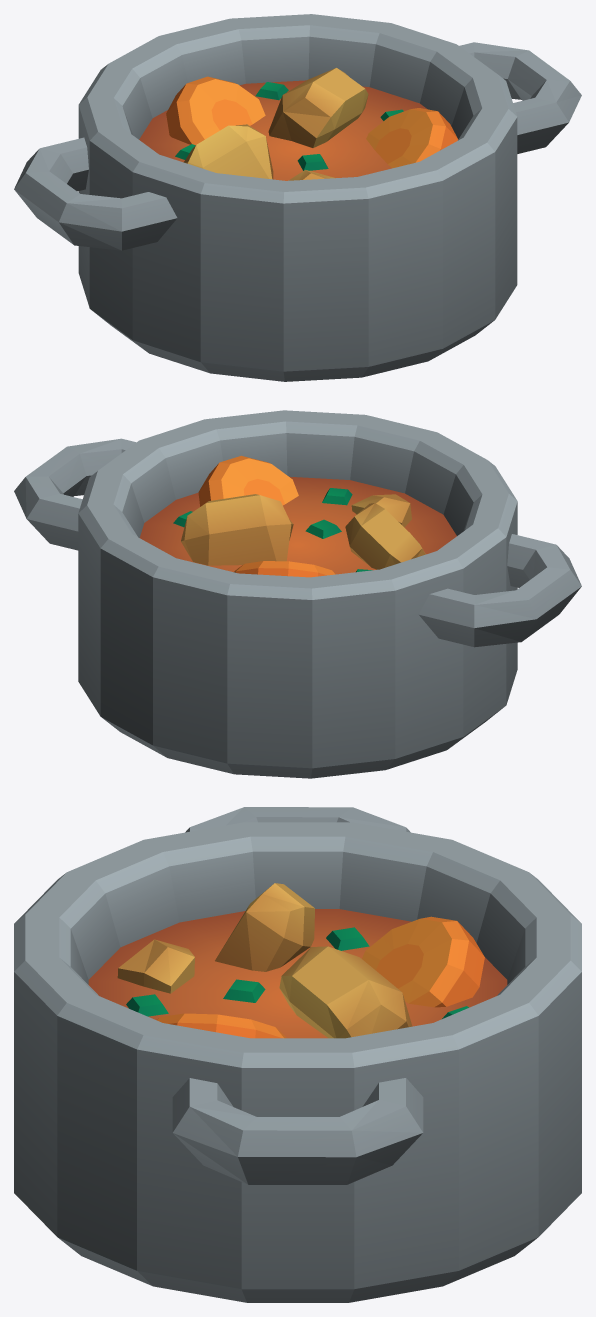
File: StewPot.obj
3 renders of one model, top to bottom at view 1: azimuth 30°, elevation 25°; view 2: azimuth 150°, elevation 25°; view 3: azimuth 270°, elevation 25°, orthographic. The views are drawn at different scales.
Parts seen in each view (by area): view 1: Cylinder.231; view 2: Cylinder.231; view 3: Cylinder.231.
Part boxes in pixels (left/top/right/bottom): Cylinder.231: left=14, top=14, right=581, bottom=381; Cylinder.231: left=14, top=410, right=581, bottom=778; Cylinder.231: left=14, top=807, right=581, bottom=1302.
Bounding box in the file's own units: 1.4 × 0.5159 × 1.
1 material, 1 textured.
